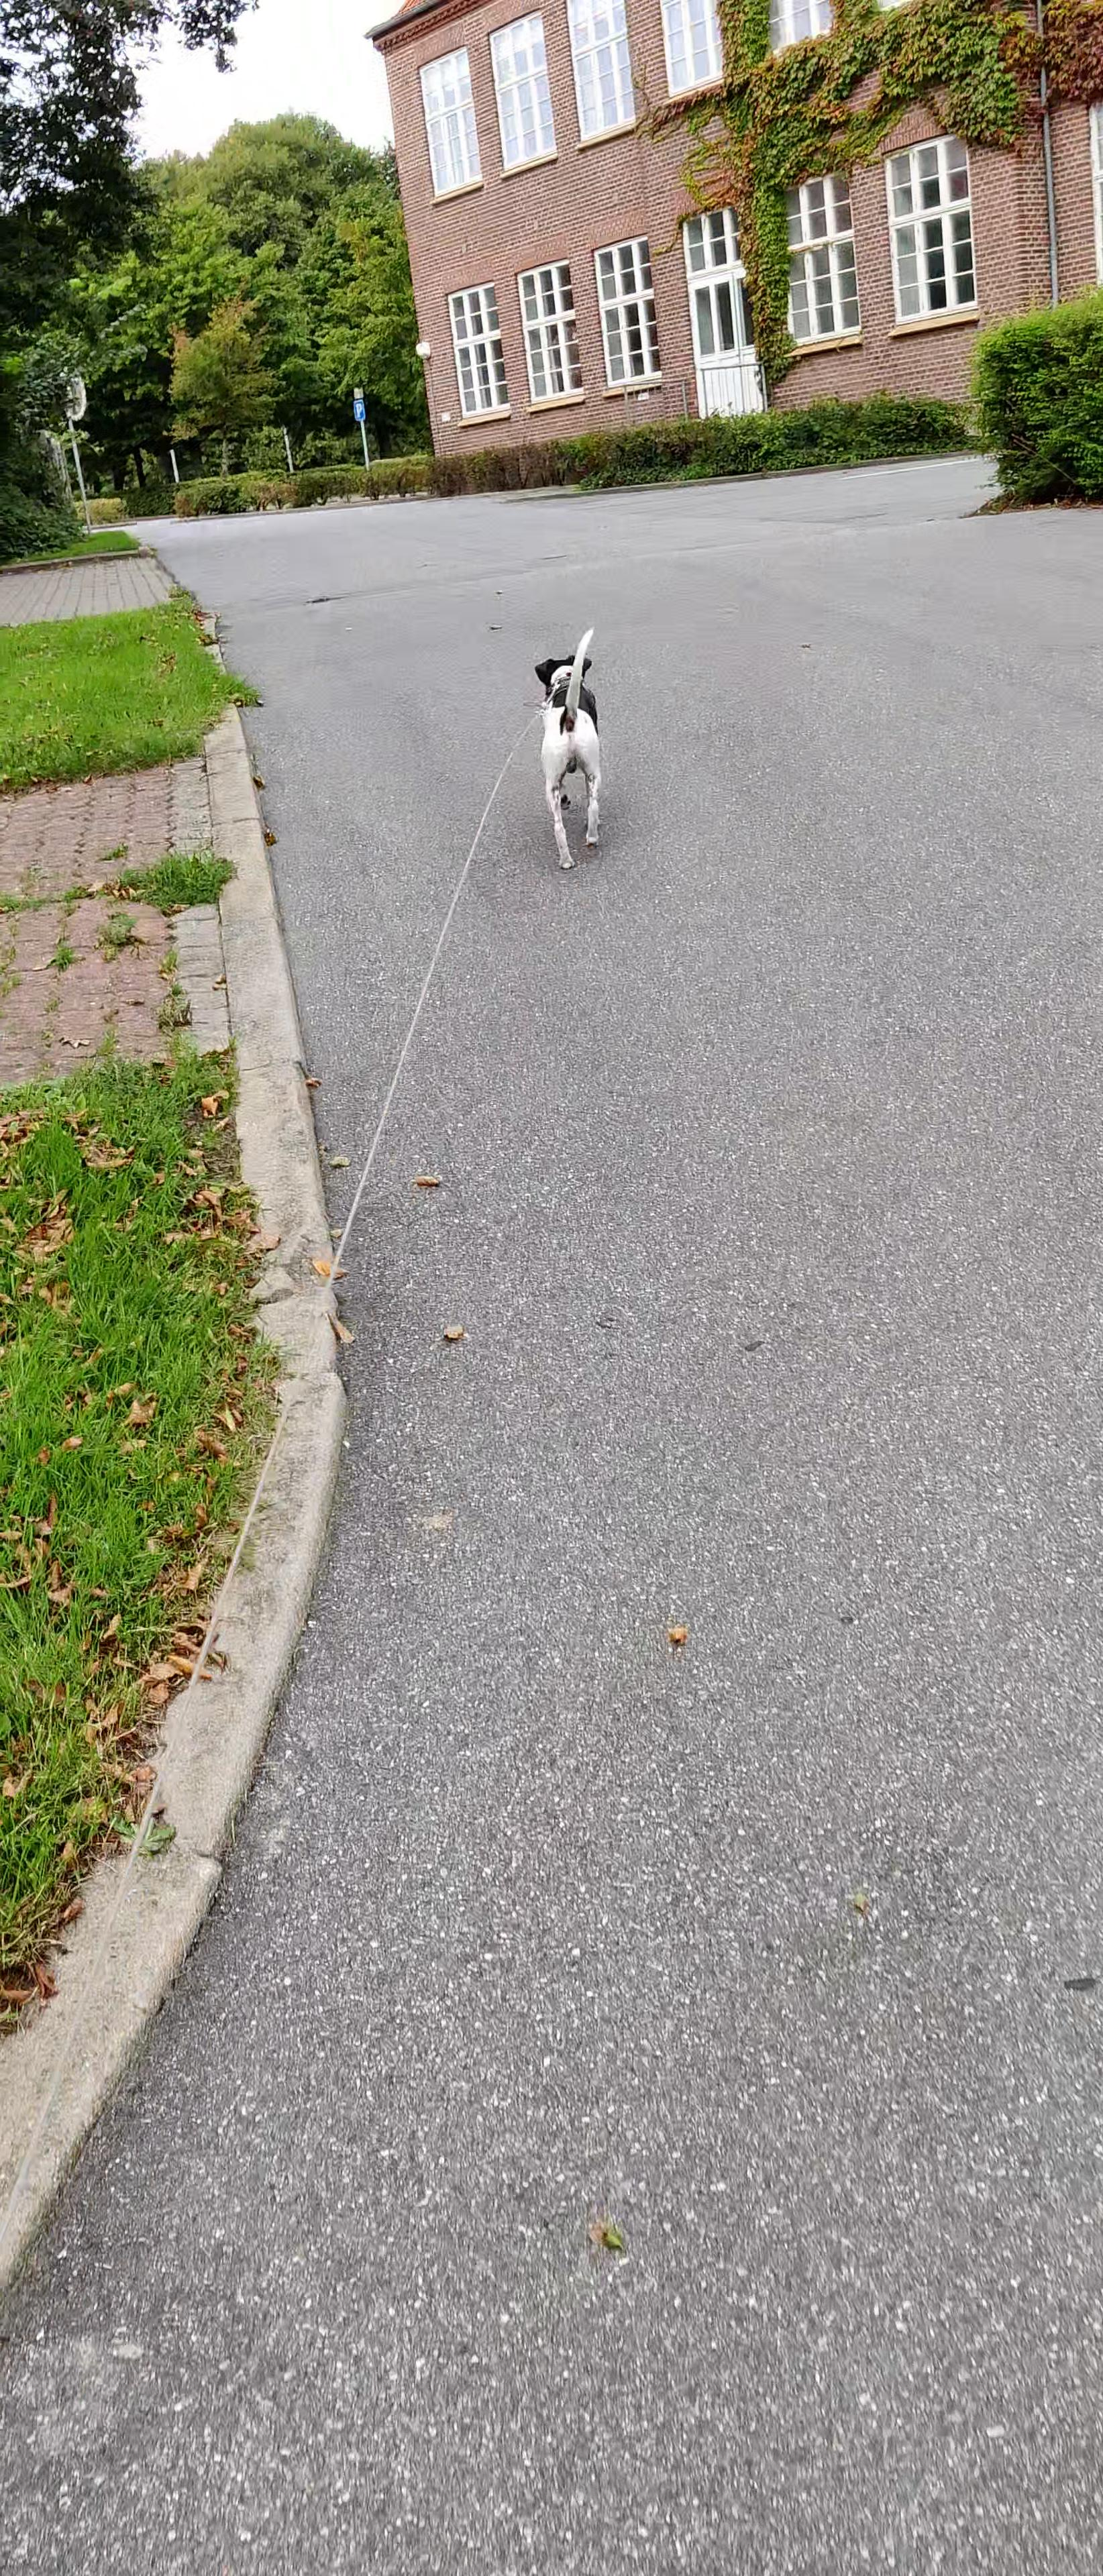Dog: (529, 619, 616, 877)
